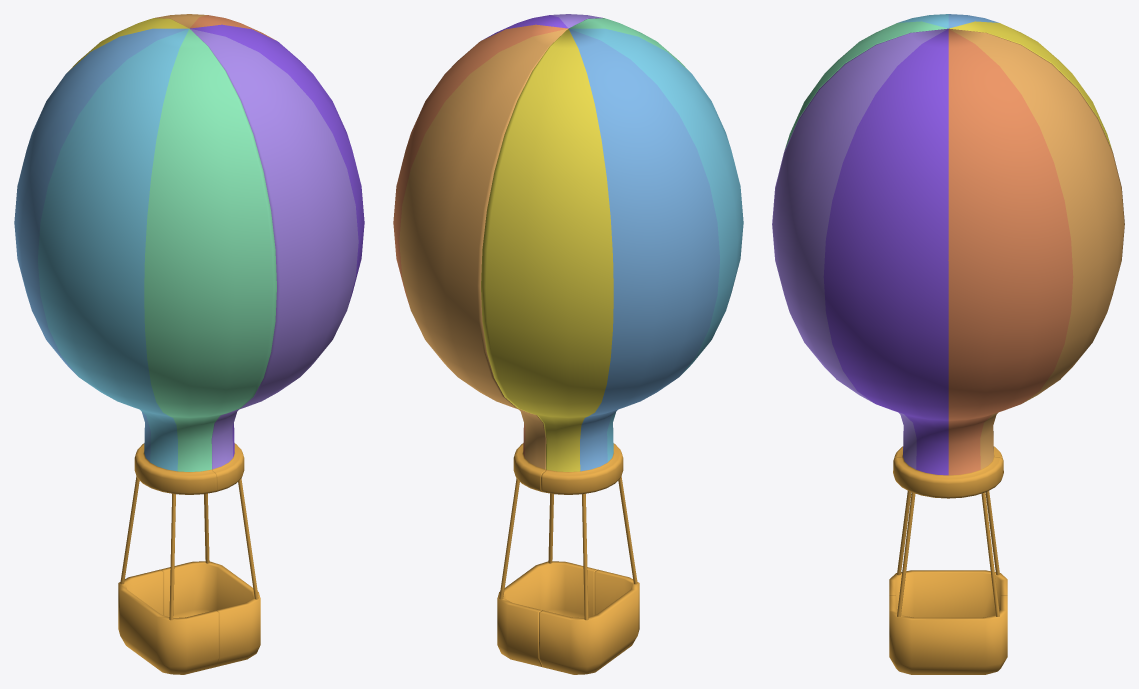
File: SM_AirBalloon_01b.fbx
3 renders of one model, left to right at view 1: azimuth 30°, elevation 25°; view 2: azimuth 150°, elevation 25°; view 3: azimuth 270°, elevation 25°, orthographic.
Visible parts, largest first — view 1: AirBalloon_02, AirBalloon_01; view 2: AirBalloon_02, AirBalloon_01; view 3: AirBalloon_01, AirBalloon_02.
Part boxes in pixels (box(x1,y1,x2,y2)): AirBalloon_02: box(14, 18, 276, 674); AirBalloon_01: box(155, 14, 364, 666); AirBalloon_02: box(481, 18, 743, 674); AirBalloon_01: box(393, 14, 602, 666); AirBalloon_01: box(772, 28, 1124, 674); AirBalloon_02: box(784, 14, 1112, 617).
Bounding box in the file's own units: 17.05 × 33.54 × 17.05.
